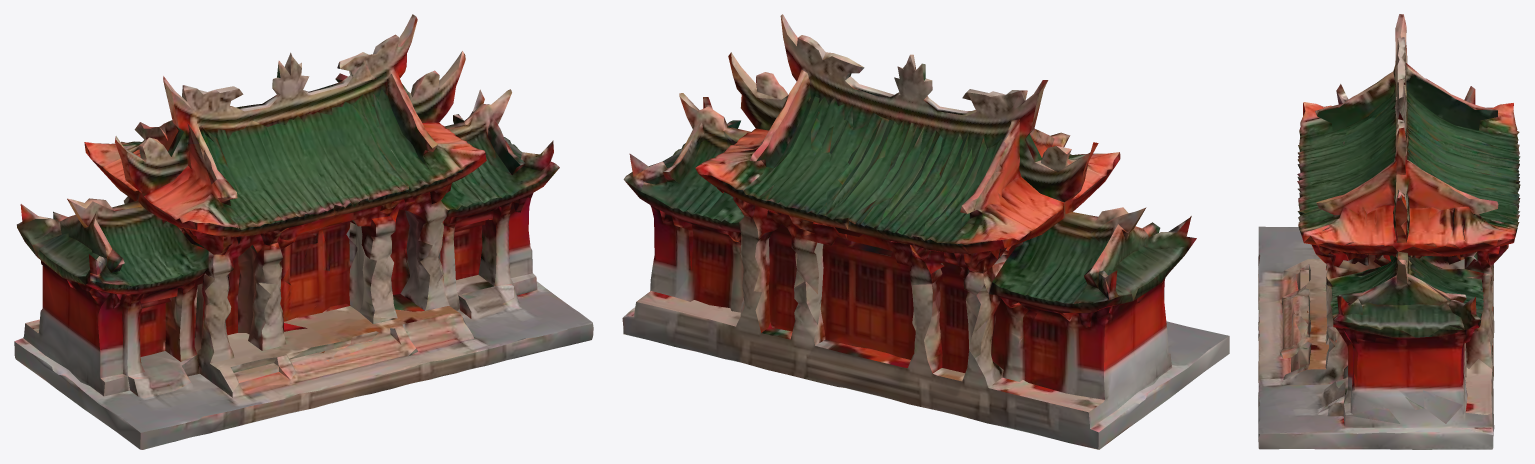
File: xingtian-temple.glb
3 views of the same model, side by side, from view 1: azimuth 30°, elevation 25°; view 2: azimuth 150°, elevation 25°; view 3: azimuth 270°, elevation 25° (orthographic). The views are drawn at different scales.
Parts seen in each view (by area): view 1: logan-textured.obj; view 2: logan-textured.obj; view 3: logan-textured.obj.
Boxes of the visible parts, left/top/right/bottom form: logan-textured.obj: left=14, top=14, right=593, bottom=449; logan-textured.obj: left=622, top=14, right=1229, bottom=449; logan-textured.obj: left=1258, top=14, right=1520, bottom=449.
Bounding box in the file's own units: 1 × 0.5999 × 0.5174.
Materials: 1 (1 with a texture image).
